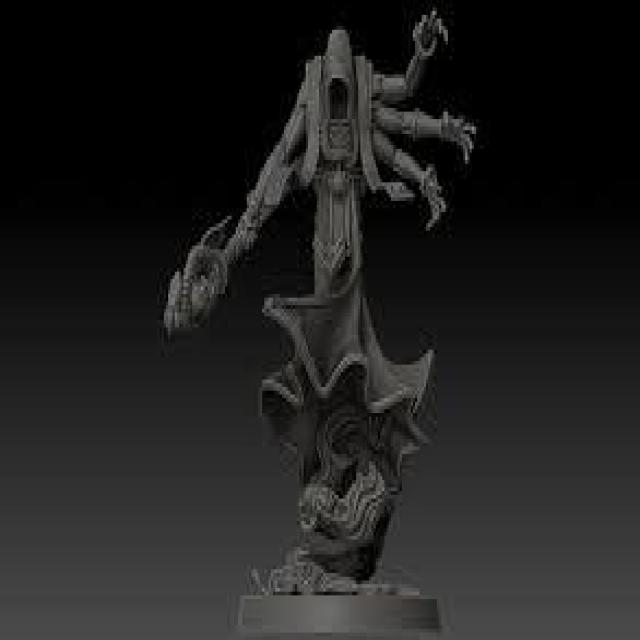Without deffect: (144, 7, 468, 640)
